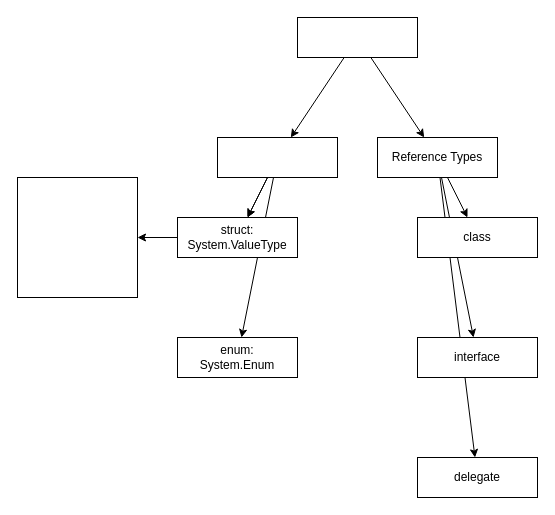
This 555x515 diagram has some shape labels left out. The box of each missing label's shape, as (x1, y1, x2, y2) in pixels:
Boolean Byte SByte Char Int16,32,64 UInt16,32,64 Single Double: (16, 176, 138, 298)
System.Object: (296, 16, 418, 58)
Value Types: (216, 136, 338, 178)
